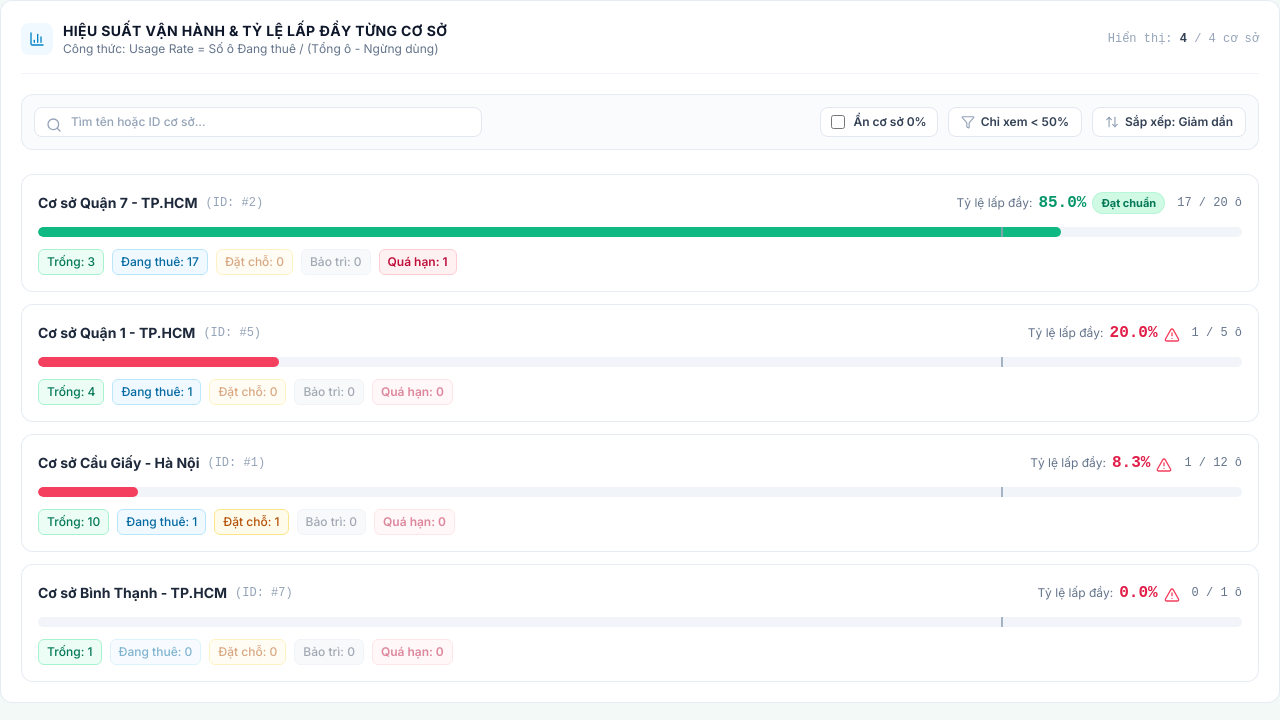
Test: OccupancyComparisonChart (Enterprise UX List View) › filters by quick button "Chỉ xem < 50%"
Step 1. Click the button "Chỉ xem < 50%" → (1015, 122), box [948,107,1082,137]
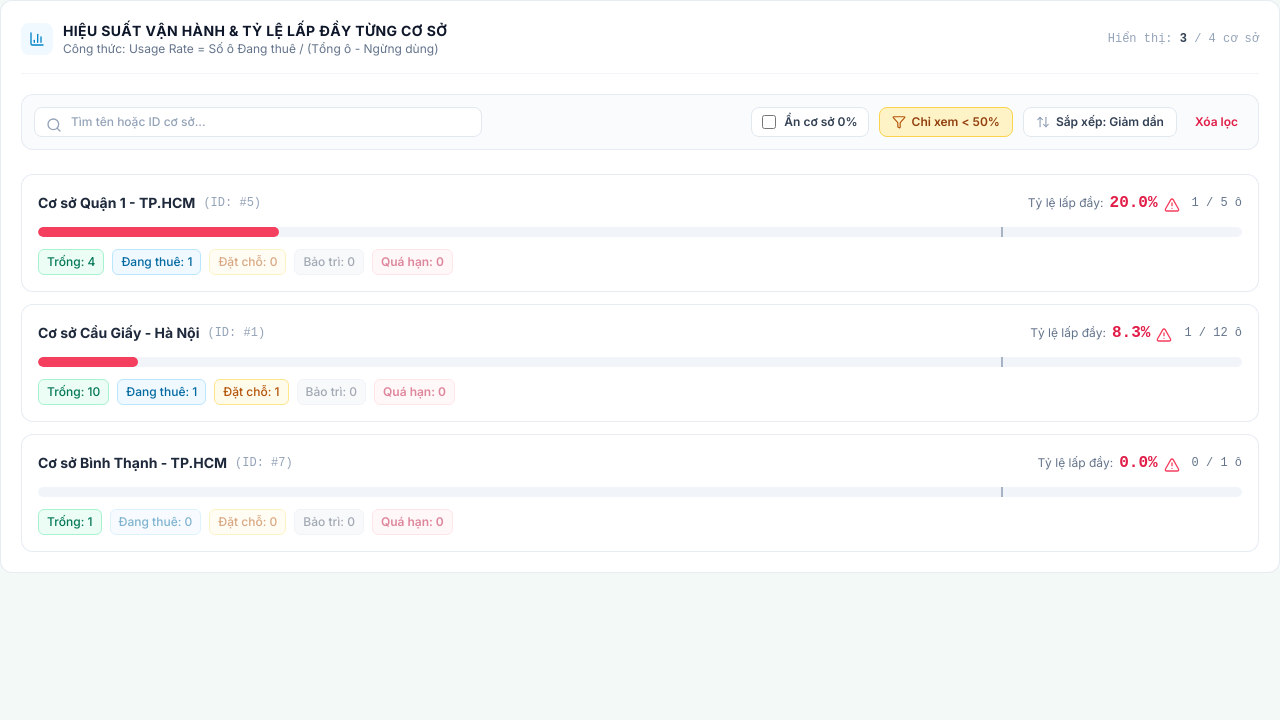
Expected: the text "Cơ sở Quận 1 - TP.HCM" is shown, [38,193,195,213]
Now the button "Cơ sở Quận 7 - TP.HCM" is gone
